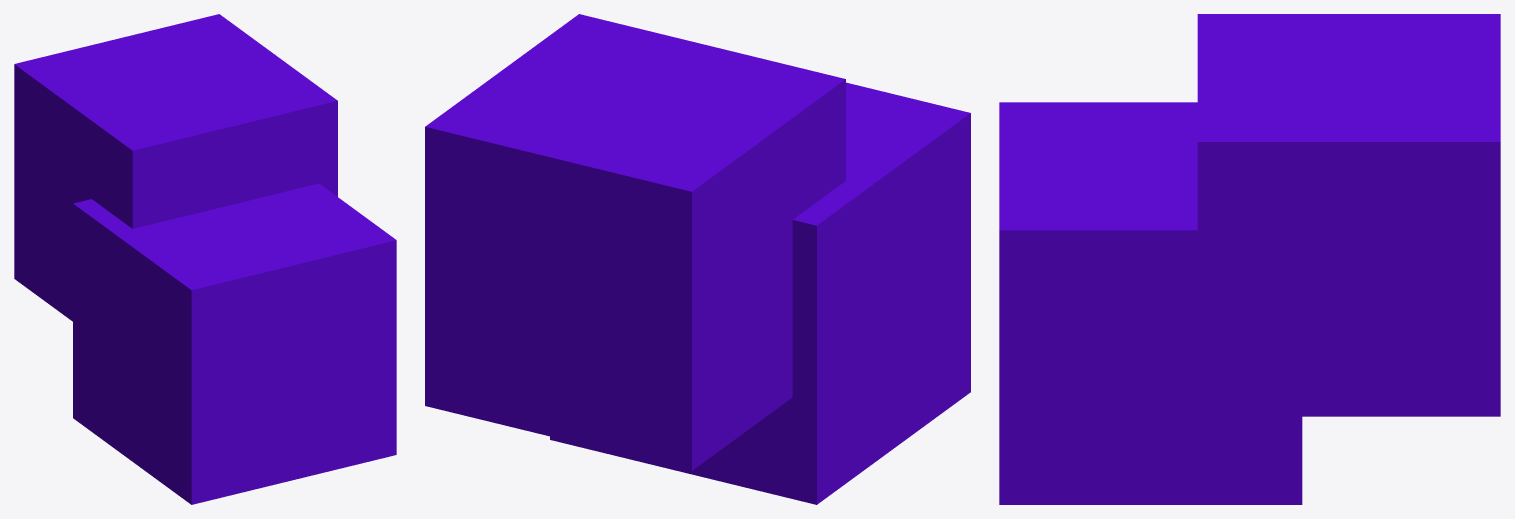
File: testing_colors.fbx
3 views of the same model, side by side, from view 1: azimuth 30°, elevation 25°; view 2: azimuth 150°, elevation 25°; view 3: azimuth 270°, elevation 25° (orthographic). The views are drawn at different scales.
Visible parts, largest first — view 1: Cube, Cube.001; view 2: Cube.001, Cube; view 3: Cube.001, Cube.
Part boxes in pixels (left/top/right/bottom): Cube: left=73, top=183, right=396, bottom=504; Cube.001: left=14, top=14, right=337, bottom=321; Cube.001: left=425, top=14, right=845, bottom=470; Cube: left=550, top=82, right=970, bottom=504; Cube.001: left=1197, top=14, right=1500, bottom=416; Cube: left=999, top=102, right=1302, bottom=504.
Bounding box in the file's own units: 218 × 273 × 331.
